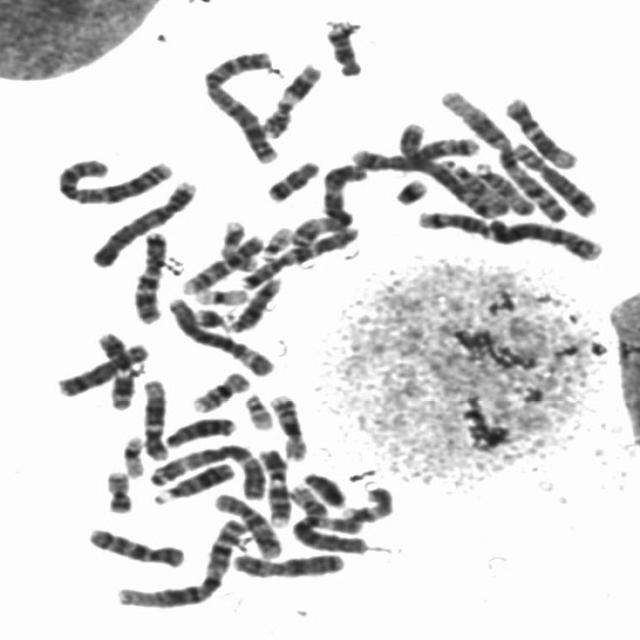A1: (430, 81, 571, 222), (106, 511, 250, 611)
A2: (195, 42, 282, 165), (47, 149, 178, 206)
A3: (140, 436, 268, 503), (283, 156, 369, 250)
B4: (83, 173, 202, 269), (478, 211, 606, 263)
B5: (390, 114, 512, 219), (343, 129, 483, 173)
C10: (206, 486, 285, 560), (78, 520, 188, 570)
C11: (253, 55, 325, 139), (88, 324, 137, 411)
C12: (497, 89, 581, 170), (135, 372, 172, 462)
C6: (159, 289, 278, 378), (284, 506, 372, 554)
C7: (232, 219, 362, 290), (124, 223, 170, 324)
C8: (505, 134, 603, 219), (49, 335, 152, 398)
C9: (175, 227, 267, 296), (250, 440, 294, 528)
D13: (144, 454, 239, 505), (157, 409, 239, 449)
D14: (219, 268, 286, 334), (409, 203, 494, 238)
D15: (440, 154, 540, 218), (466, 156, 537, 216)
E16: (260, 386, 311, 463), (183, 364, 253, 414)
E17: (212, 214, 260, 272), (338, 484, 402, 526)
E18: (258, 153, 322, 203), (318, 16, 366, 77)
F19: (114, 428, 149, 479), (186, 281, 252, 306)
F20: (96, 462, 136, 515), (282, 478, 330, 519)
G21: (387, 170, 431, 206), (184, 300, 234, 330)
G22: (236, 386, 276, 431), (254, 218, 296, 260)
X: (225, 546, 348, 580)
Y: (296, 466, 348, 508)
